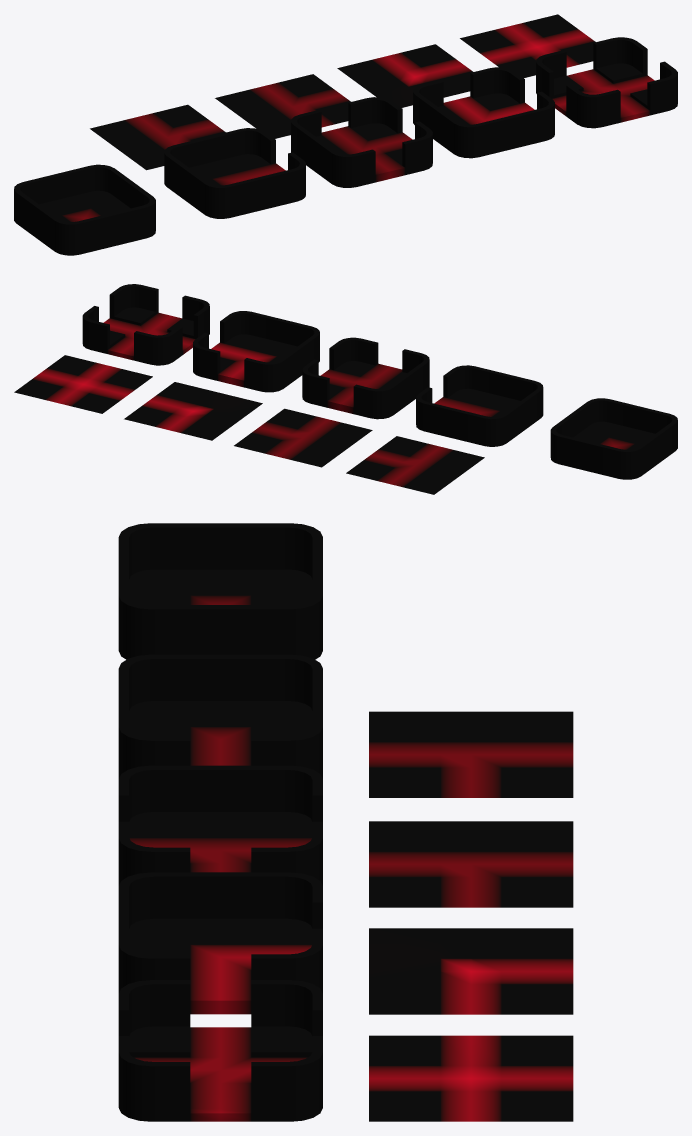
The model's file is Tiles_set.fbx.
The picture shows the model from 3 angles, top to bottom: view 1: azimuth 30°, elevation 25°; view 2: azimuth 150°, elevation 25°; view 3: azimuth 270°, elevation 25°; orthographic projection. The views are drawn at different scales.
Visible parts, largest first — view 1: null_room, Ex_room, T_room, An_room, X_room, T_karts.001, T_karts, An_karts, Ex_karts; view 2: null_room, Ex_room, An_room, T_room, X_room, T_karts.001, An_karts, Ex_karts, T_karts; view 3: null_room, X_room, An_room, Ex_room, T_room, An_karts, T_karts.001, T_karts, Ex_karts.
Part boxes in pixels (left/top/right/bottom): null_room: left=14, top=164, right=155, bottom=255; Ex_room: left=164, top=128, right=305, bottom=218; T_room: left=291, top=97, right=432, bottom=187; An_room: left=413, top=67, right=554, bottom=158; X_room: left=536, top=37, right=677, bottom=128; T_karts.001: left=215, top=74, right=350, bottom=138; T_karts: left=460, top=14, right=595, bottom=77; An_karts: left=337, top=44, right=472, bottom=107; Ex_karts: left=90, top=104, right=225, bottom=170; null_room: left=550, top=398, right=677, bottom=479; Ex_room: left=416, top=365, right=543, bottom=446; An_room: left=193, top=311, right=319, bottom=392; T_room: left=302, top=337, right=429, bottom=419; X_room: left=82, top=284, right=209, bottom=365; T_karts.001: left=234, top=408, right=372, bottom=467; An_karts: left=124, top=382, right=262, bottom=440; Ex_karts: left=346, top=436, right=484, bottom=494; T_karts: left=14, top=355, right=152, bottom=413; null_room: left=118, top=523, right=322, bottom=659; X_room: left=118, top=980, right=322, bottom=1121; An_room: left=118, top=872, right=322, bottom=1014; Ex_room: left=118, top=654, right=322, bottom=778; T_room: left=118, top=765, right=322, bottom=885; An_karts: left=369, top=928, right=573, bottom=1014; T_karts.001: left=369, top=821, right=573, bottom=907; T_karts: left=369, top=1035, right=573, bottom=1121; Ex_karts: left=369, top=711, right=573, bottom=797.
Size of the model in its own units: 630 by 30 by 223.
